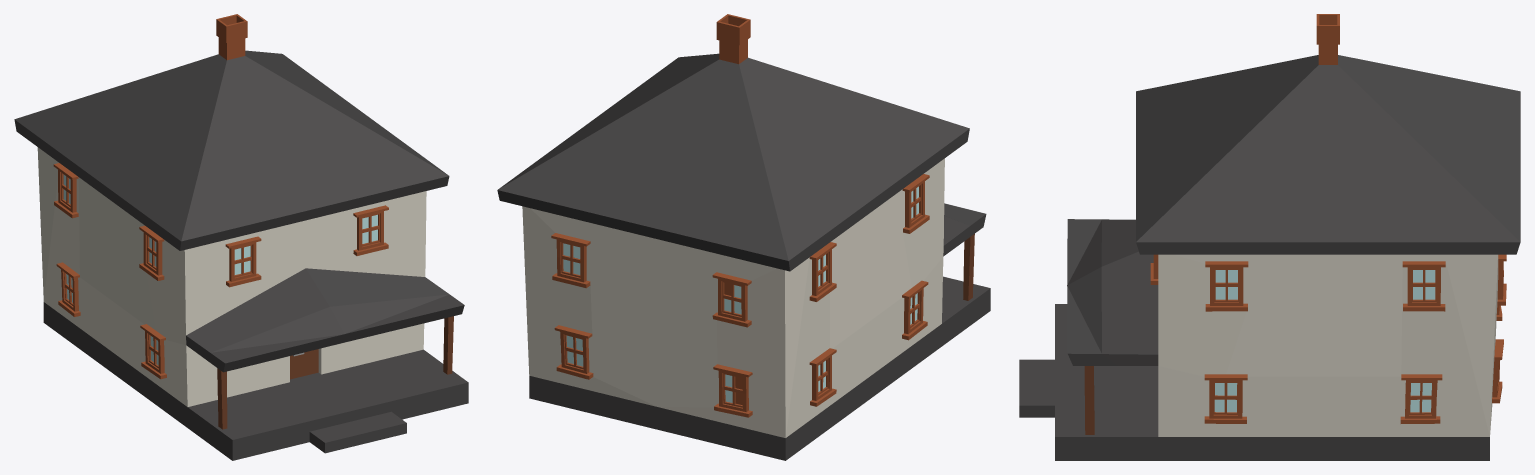
The model's file is House.glb.
3 views of the same model, side by side, from view 1: azimuth 30°, elevation 25°; view 2: azimuth 150°, elevation 25°; view 3: azimuth 270°, elevation 25° (orthographic). The views are drawn at different scales.
Parts seen in each view (by area): view 1: House1; view 2: House1; view 3: House1.
Part boxes in pixels (x1,y1,x2,y2): House1: (14, 14, 468, 460); House1: (497, 14, 990, 460); House1: (1019, 14, 1520, 460).
Size of the model in its own units: 1.22 by 1.42 by 1.72.
1 material, 1 textured.
